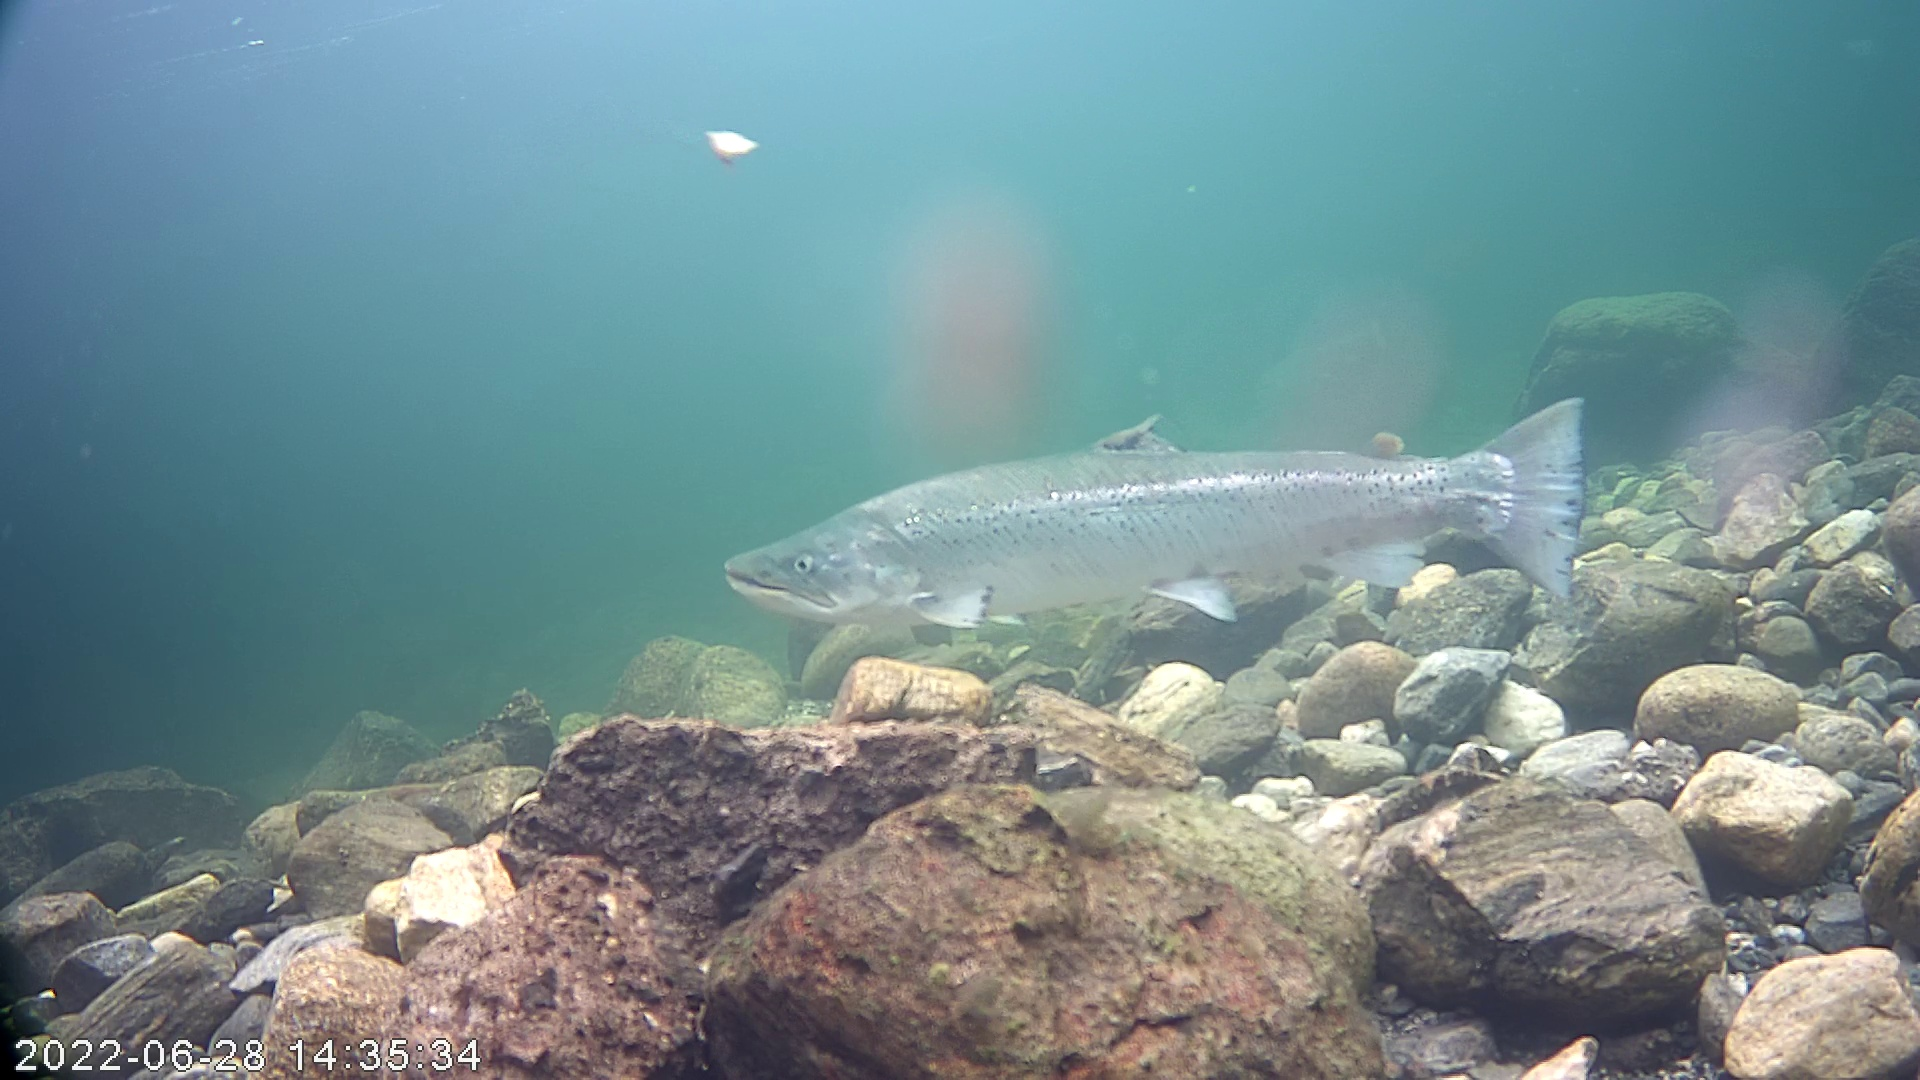salmon: (704, 287, 1625, 690)
